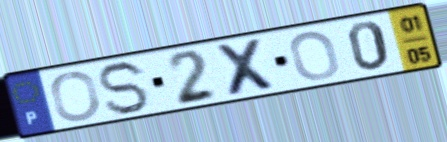0: (345, 19, 392, 73)
2: (164, 48, 221, 107)
O: (49, 69, 104, 123), (287, 29, 342, 82)
S: (97, 59, 154, 117)
X: (212, 36, 283, 99)
